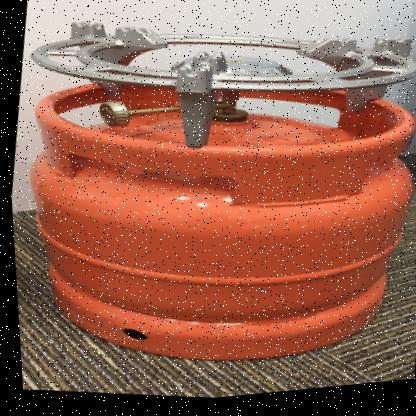gas-tank: (3, 41, 415, 415)
